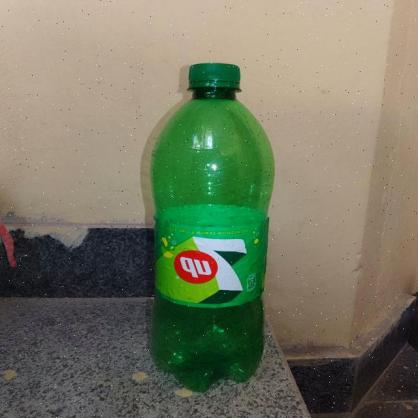bottle: (147, 61, 274, 391)
cap: (188, 63, 244, 93)
label: (155, 215, 266, 307)
